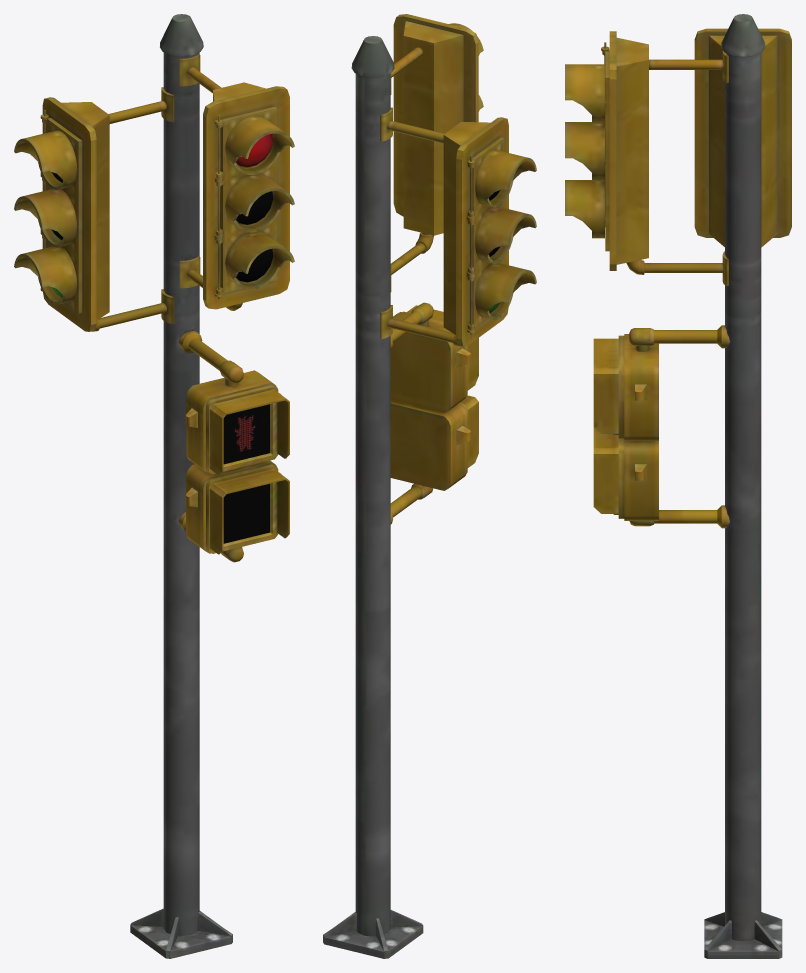
Rendered from SM_TrafficLight_64c410.glb.
3 views of the same model, side by side, from view 1: azimuth 30°, elevation 25°; view 2: azimuth 150°, elevation 25°; view 3: azimuth 270°, elevation 25° (orthographic). The views are drawn at different scales.
Size of the model in its own units: 1.44 by 6.34 by 1.41.
2 materials, 2 textured.
